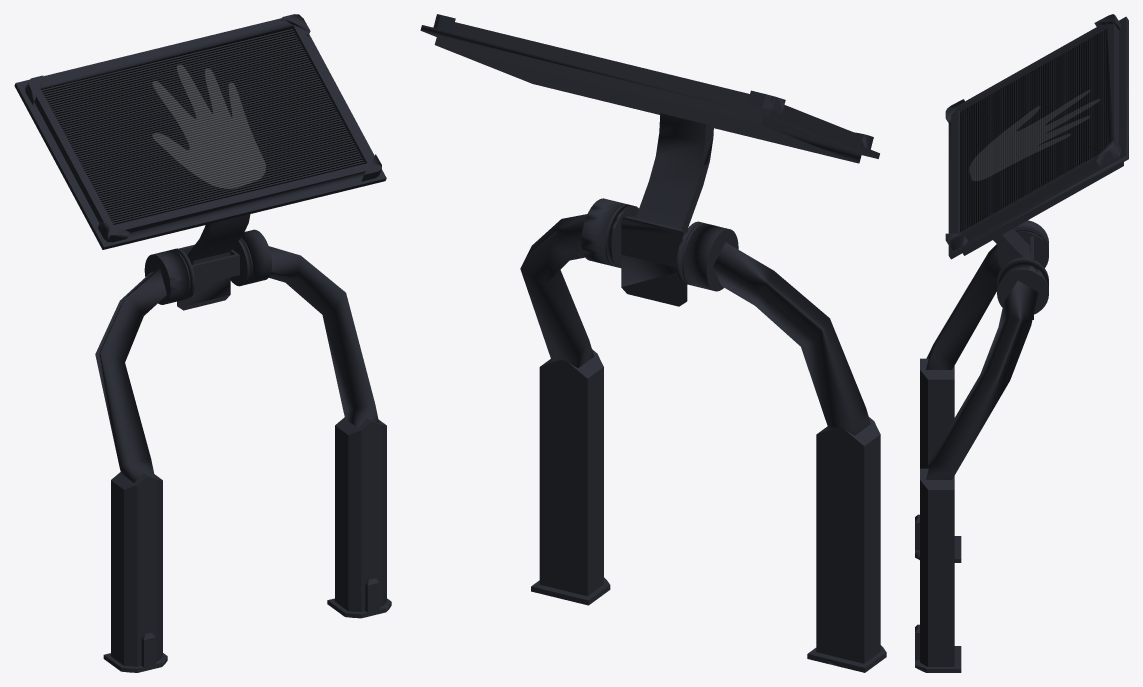
The model's file is Console.glb.
3 views of the same model, side by side, from view 1: azimuth 30°, elevation 25°; view 2: azimuth 150°, elevation 25°; view 3: azimuth 270°, elevation 25° (orthographic). The views are drawn at different scales.
Visible parts, largest first — view 1: Cylinder.016; view 2: Cylinder.016; view 3: Cylinder.016.
Part boxes in pixels (box(x1,y1,x2,y2)): Cylinder.016: box(14, 14, 391, 672); Cylinder.016: box(420, 14, 886, 672); Cylinder.016: box(915, 14, 1128, 672).
Bounding box in the file's own units: 0.5676 × 1 × 0.3691.
Materials: 1 (1 with a texture image).
